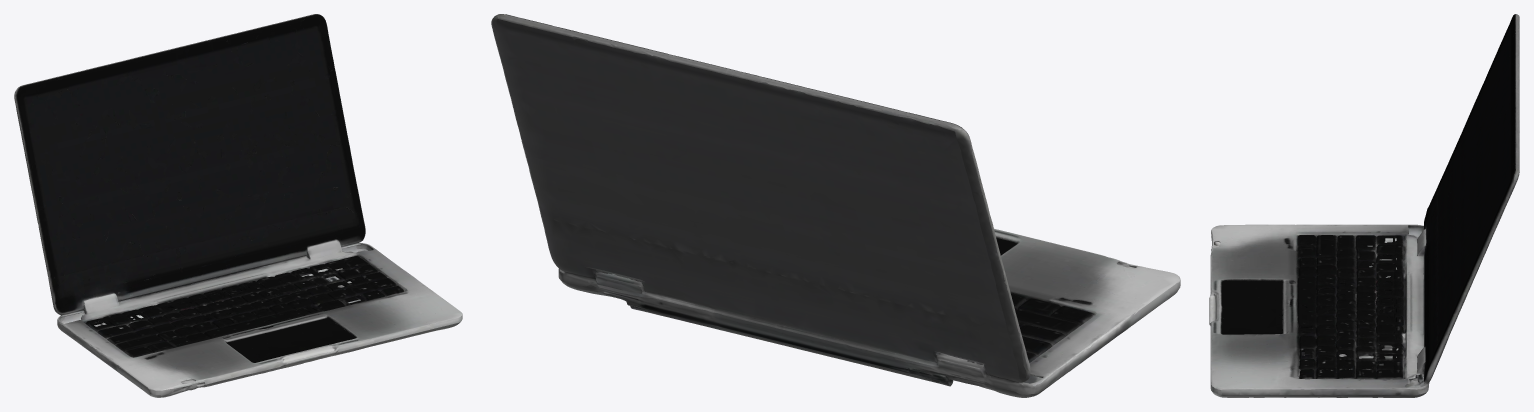
File: whole.glb
The picture shows the model from 3 angles, left to right: view 1: azimuth 30°, elevation 25°; view 2: azimuth 150°, elevation 25°; view 3: azimuth 270°, elevation 25°; orthographic projection. The views are drawn at different scales.
Visible parts, largest first — view 1: world; view 2: world; view 3: world.
Part boxes in pixels (<box>): world: <box>14,14,462,397</box>; world: <box>491,14,1180,397</box>; world: <box>1209,14,1519,397</box>.
Bounding box in the file's own units: 0.31 × 0.2055 × 0.2473.
Materials: 1 (1 with a texture image).
